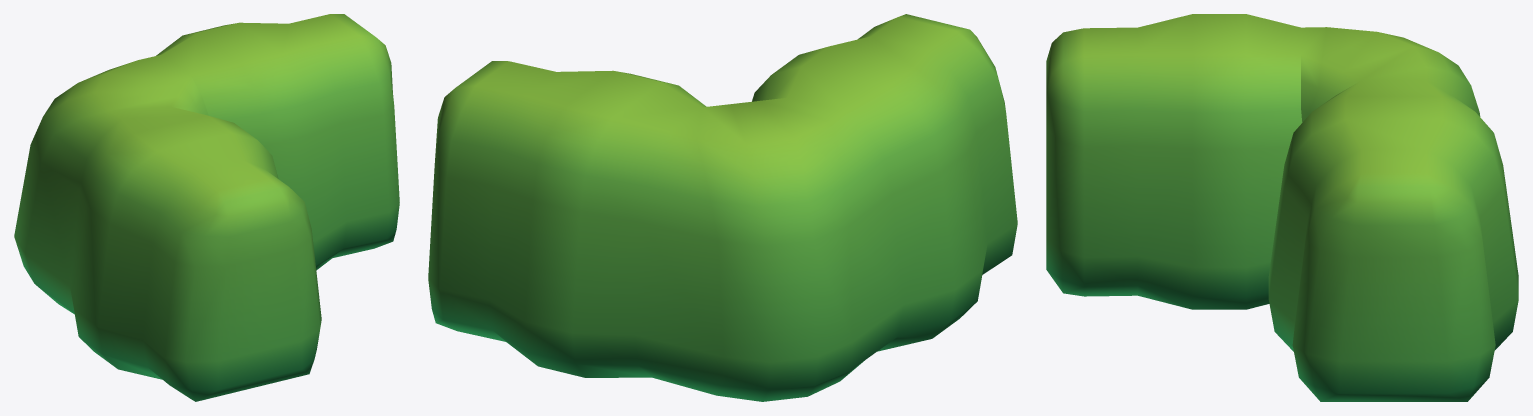
File: hedge_corner.fbx
The picture shows the model from 3 angles, left to right: view 1: azimuth 30°, elevation 25°; view 2: azimuth 150°, elevation 25°; view 3: azimuth 270°, elevation 25°; orthographic projection. The views are drawn at different scales.
Parts seen in each view (by area): view 1: hedge_corner; view 2: hedge_corner; view 3: hedge_corner.
Boxes of the visible parts, x1,y1,x2,y2 form: hedge_corner: [14, 14, 399, 401]; hedge_corner: [428, 14, 1017, 401]; hedge_corner: [1046, 14, 1518, 401].
Size of the model in its own units: 2.75 by 1.5 by 2.75.
